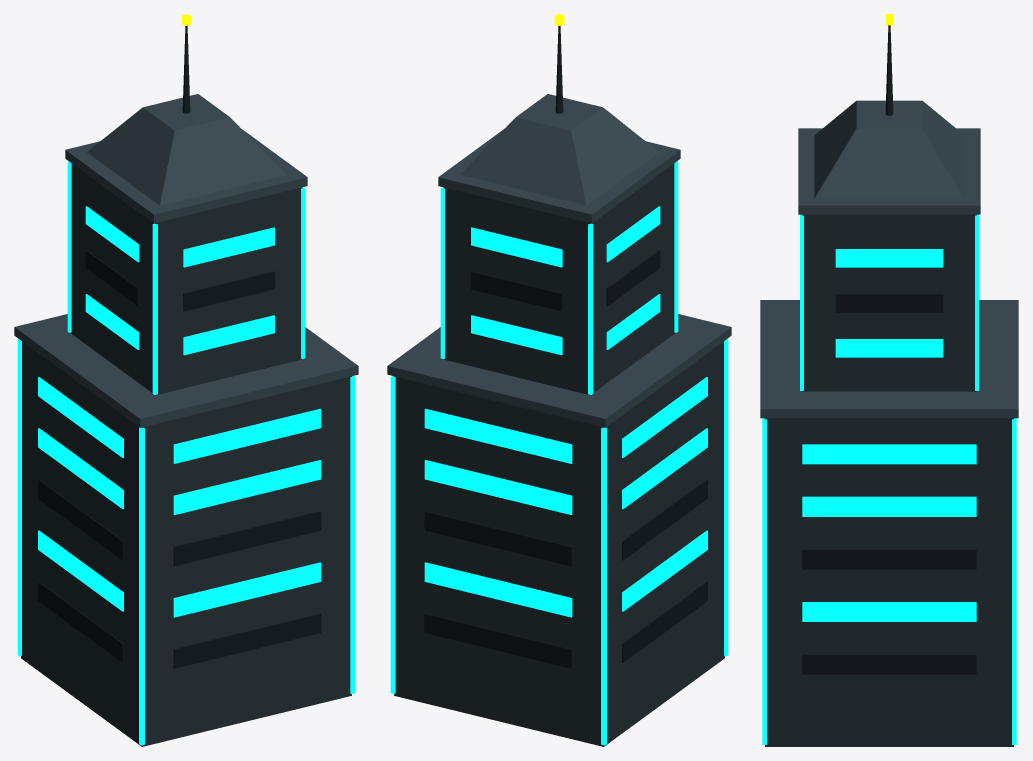
File: edificio_c.glb
3 views of the same model, side by side, from view 1: azimuth 30°, elevation 25°; view 2: azimuth 150°, elevation 25°; view 3: azimuth 270°, elevation 25° (orthographic). The views are drawn at different scales.
Visible parts, largest first — view 1: Edificio_C; view 2: Edificio_C; view 3: Edificio_C.
Boxes of the visible parts, x1,y1,x2,y2 form: Edificio_C: (14,14,358,746); Edificio_C: (387,14,731,746); Edificio_C: (760,14,1018,746).
Size of the model in its own units: 15.6 by 45.18 by 15.6.
